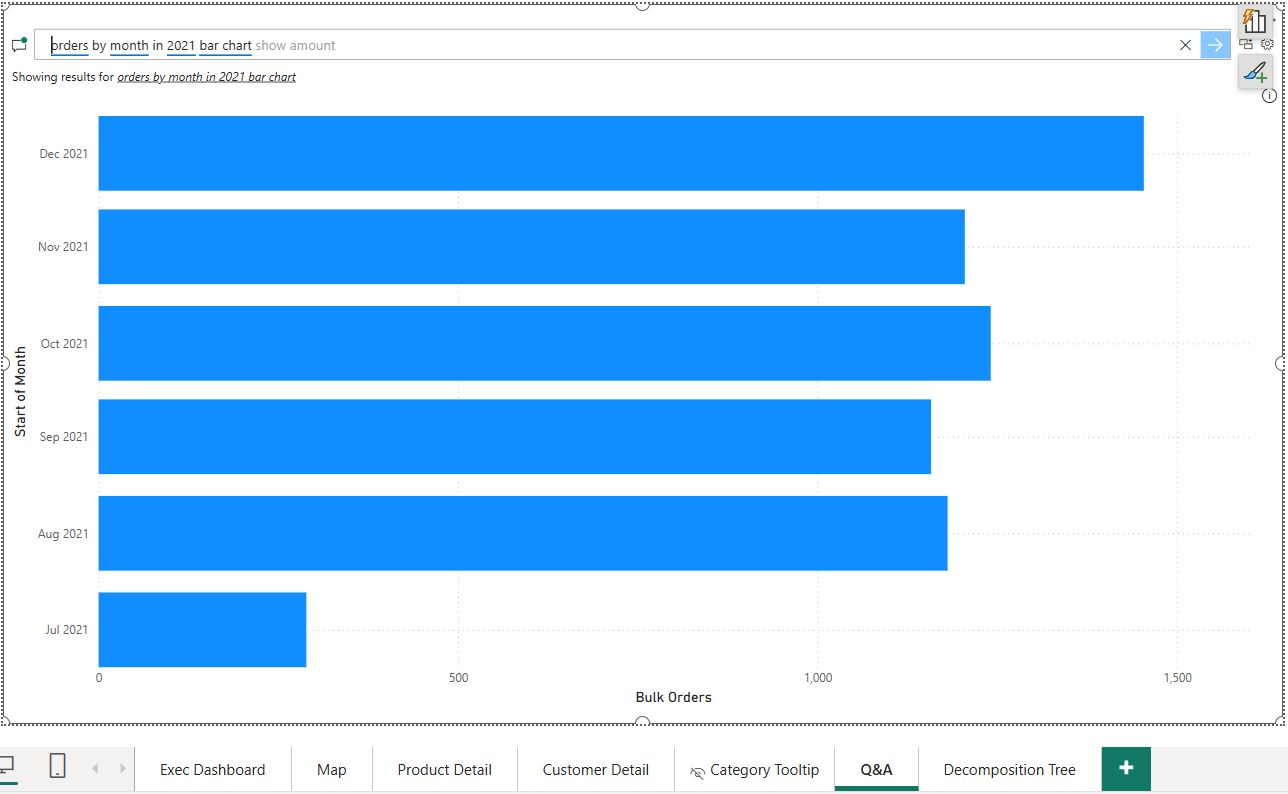

Layout of this report page (visuals, bound fields, positions):
{"tool":"powerbi","page":{"name":"Q&A","canvas":[1280,720],"ordinal":5},"visuals":[{"type":"qnaVisual","box":[0,0,1280,720],"z":1000}]}

Visuals, with their boxes on the page's 1280x720 design canvas (x1, y1, x2, y2). These are canvas units, not pixel positions in the 1288x794 screenshot, which may show the page scaled, cropped or inside an application window:
qnaVisual: 0, 0, 1280, 720
